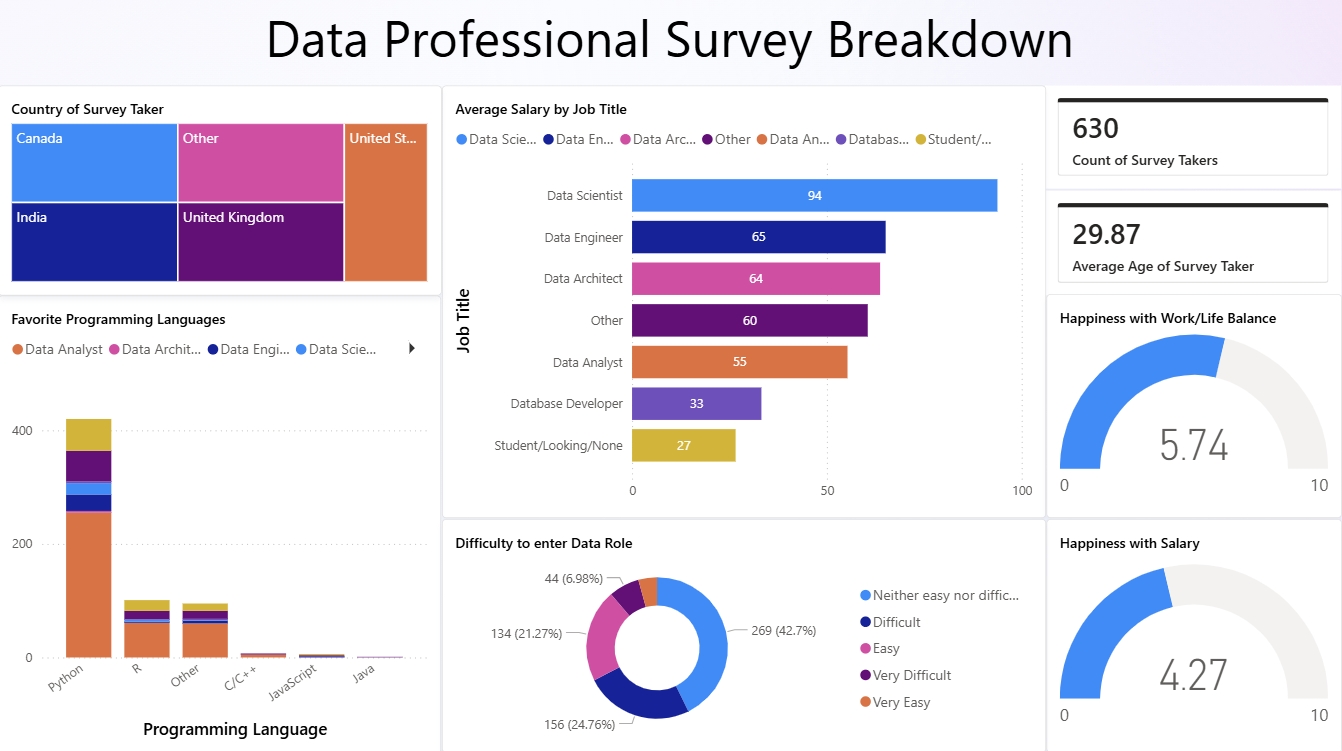

What the dashboard file says about the page in this screenshot:
{"tool":"powerbi","page":{"name":"Page 1","canvas":[1280,720],"ordinal":0},"visuals":[{"type":"textbox","box":[0,0,1279.4,83.2],"z":0},{"type":"cardVisual","fields":{"Data":["Count(Data Professional Survey.Unique ID)"]},"box":[997.6,84.9,282.7,98.9],"z":1000},{"type":"cardVisual","fields":{"Data":["Avg(Data Professional Survey.Q10 - Current Age)"]},"box":[997.6,183.8,282.7,100.1],"z":2000},{"type":"barChart","title":"Average Salary by Job Title","fields":{"Category":["Data Professional Survey.Q1 - Which Title Best Fits your Current Role?.1"],"Y":["Avg(Data Professional Survey.Average Salary)"],"Series":["Data Professional Survey.Q1 - Which Title Best Fits your Current Role?.1"]},"box":[422.5,84.8,575.4,411.9],"z":3000},{"type":"columnChart","title":"Favorite Programming Languages","fields":{"Category":["Data Professional Survey.Q5 - Favorite Programming Language.1"],"Y":["Count(Data Professional Survey.Unique ID)"],"Series":["Data Professional Survey.Q1 - Which Title Best Fits your Current Role?.1"]},"box":[0,283.9,422.1,436.1],"z":4000},{"type":"treemap","title":"Country of Survey Taker","fields":{"Group":["Data Professional Survey.Q11 - Which Country do you live in?.1"],"Values":["Count(Data Professional Survey.Q11 - Which Country do you live in?.1)"]},"box":[0,84.8,422.5,199.9],"z":5000},{"type":"gauge","title":"Happiness with Work/Life Balance","fields":{"Y":["Avg(Data Professional Survey.Q6 - How Happy are you in your Current Position with the following? (Work/Life Balance))"],"MinValue":["Min(Data Professional Survey.Q6 - How Happy are you in your Current Position with the following? (Work/Life Balance))1"],"MaxValue":["Max(Data Professional Survey.Q6 - How Happy are you in your Current Position with the following? (Work/Life Balance))2"]},"box":[997.9,283.2,281.6,213.5],"z":6000},{"type":"gauge","title":"Happiness with Salary","fields":{"Y":["Avg(Data Professional Survey.Q6 - How Happy are you in your Current Position with the following? (Salary))"],"MinValue":["Min(Data Professional Survey.Q6 - How Happy are you in your Current Position with the following? (Salary))1"],"MaxValue":["Max(Data Professional Survey.Q6 - How Happy are you in your Current Position with the following? (Salary))2"]},"box":[997.9,496.7,281.6,222.6],"z":7000},{"type":"donutChart","title":"Difficulty to enter Data Role","fields":{"Category":["Data Professional Survey.Q7 - How difficult was it for you to break into Data?"],"Y":["CountNonNull(Data Professional Survey.Q7 - How difficult was it for you to break into Data?)"]},"box":[422.5,496.7,575.4,222.6],"z":8000}]}

Visuals, with their boxes in screenshot pixels (x1, y1, x2, y2), scaled from the page's 1280x720 canvas onto the 1342x751 screenshot:
textbox: x1=0, y1=0, x2=1341, y2=87
cardVisual - Count(Data Professional Survey.Unique ID): x1=1046, y1=89, x2=1341, y2=192
cardVisual - Avg(Data Professional Survey.Q10 - Current Age): x1=1046, y1=192, x2=1341, y2=296
"Average Salary by Job Title" barChart: x1=443, y1=88, x2=1046, y2=518
"Favorite Programming Languages" columnChart: x1=0, y1=296, x2=443, y2=750
"Country of Survey Taker" treemap: x1=0, y1=88, x2=443, y2=297
"Happiness with Work/Life Balance" gauge: x1=1046, y1=295, x2=1341, y2=518
"Happiness with Salary" gauge: x1=1046, y1=518, x2=1341, y2=750
"Difficulty to enter Data Role" donutChart: x1=443, y1=518, x2=1046, y2=750
